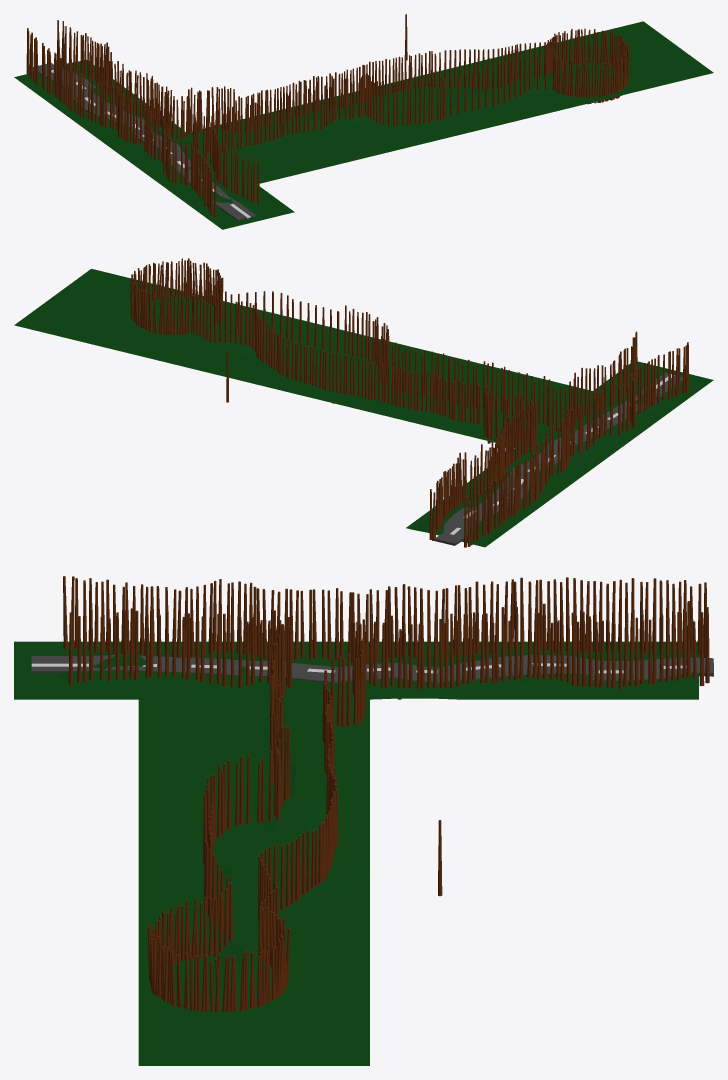
Rendered from demo level.glb.
3 renders of one model, top to bottom at view 1: azimuth 30°, elevation 25°; view 2: azimuth 150°, elevation 25°; view 3: azimuth 270°, elevation 25°, orthographic. The views are drawn at different scales.
Parts seen in each view (by area): view 1: floor, Cylinder.002, Cylinder.005, Cylinder.001, vtrees.002, Cylinder.003, Plane, vtrees, vtrees.001; view 2: floor, Cylinder.005, Cylinder.002, Cylinder.003, Cylinder.001, vtrees.002, Plane, vtrees, vtrees.001; view 3: floor, Cylinder.005, Cylinder.001, Cylinder.002, vtrees.002, Plane, vtrees, Cylinder.003, vtrees.001.
Boxes of the visible parts, bbox=[...] form: floor: bbox=[14, 21, 713, 229]; Cylinder.002: bbox=[193, 74, 445, 204]; Cylinder.005: bbox=[26, 28, 216, 216]; Cylinder.001: bbox=[57, 20, 235, 139]; vtrees.002: bbox=[546, 28, 629, 104]; Cylinder.003: bbox=[235, 51, 441, 133]; Plane: bbox=[33, 62, 256, 220]; vtrees: bbox=[444, 42, 545, 89]; vtrees.001: bbox=[443, 53, 554, 117]; floor: bbox=[14, 269, 713, 547]; Cylinder.005: bbox=[464, 342, 688, 547]; Cylinder.002: bbox=[336, 305, 637, 431]; Cylinder.003: bbox=[273, 331, 491, 427]; Cylinder.001: bbox=[429, 381, 537, 540]; vtrees.002: bbox=[130, 258, 223, 335]; Plane: bbox=[434, 372, 682, 545]; vtrees: bbox=[193, 295, 273, 368]; vtrees.001: bbox=[214, 285, 339, 353]; floor: bbox=[14, 641, 699, 1065]; Cylinder.005: bbox=[63, 576, 706, 663]; Cylinder.001: bbox=[331, 601, 709, 729]; Cylinder.002: bbox=[68, 605, 291, 863]; vtrees.002: bbox=[147, 897, 290, 1012]; Plane: bbox=[31, 654, 713, 683]; vtrees: bbox=[257, 830, 310, 950]; Cylinder.003: bbox=[311, 670, 337, 888]; vtrees.001: bbox=[204, 806, 232, 956].
Size of what is drawn, in the model's own units: 272 by 28.42 by 190.
